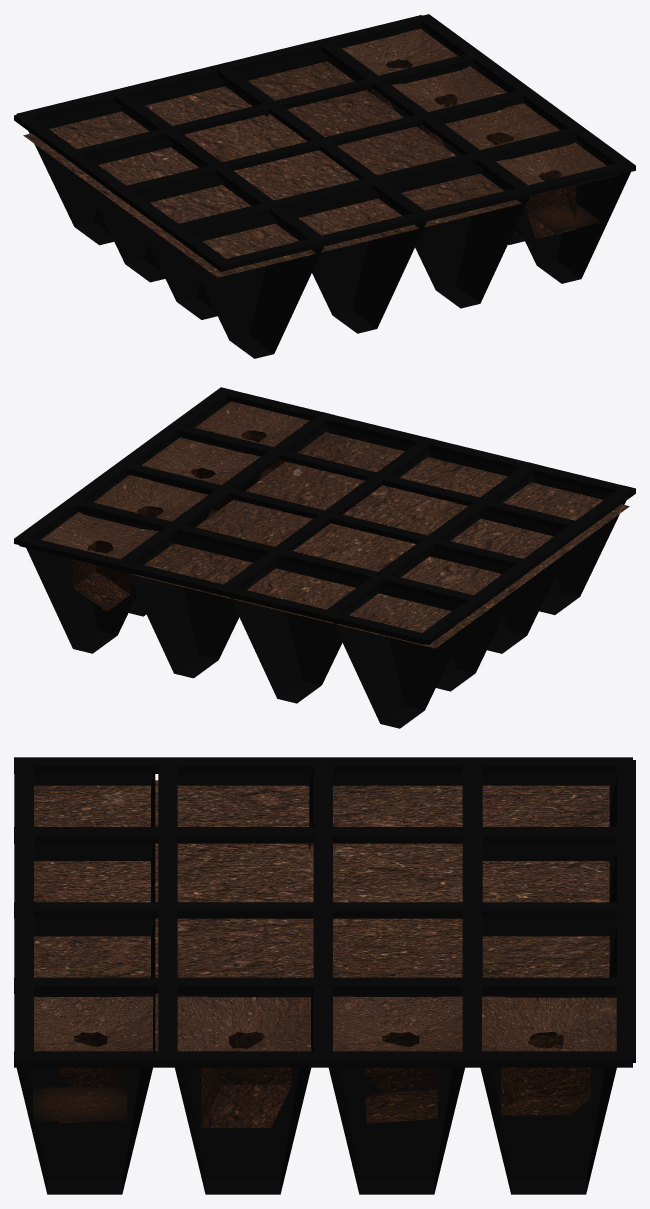
The model's file is pot.glb.
3 views of the same model, one above another, from view 1: azimuth 30°, elevation 25°; view 2: azimuth 150°, elevation 25°; view 3: azimuth 270°, elevation 25° (orthographic). The views are drawn at different scales.
Parts seen in each view (by area): view 1: node_id5, node_id11, node_id32, node_id20, node_id26, node_id8, node_id14, node_id17; view 2: node_id5, node_id11, node_id20, node_id32, node_id26, node_id8, node_id35; view 3: node_id5, node_id11, node_id32, node_id20, node_id26, node_id8, node_id23, node_id35, node_id29, node_id14, node_id17.
Boxes of the visible parts, x1=… form: node_id5: x1=14, y1=14, x2=635, y2=358; node_id11: x1=23, y1=61, x2=521, y2=277; node_id32: x1=341, y1=28, x2=457, y2=75; node_id20: x1=445, y1=103, x2=560, y2=149; node_id26: x1=392, y1=66, x2=507, y2=111; node_id8: x1=496, y1=142, x2=618, y2=195; node_id14: x1=524, y1=201, x2=601, y2=233; node_id17: x1=526, y1=170, x2=576, y2=238; node_id5: x1=14, y1=387, x2=635, y2=728; node_id11: x1=131, y1=432, x2=629, y2=648; node_id20: x1=141, y1=437, x2=260, y2=485; node_id32: x1=41, y1=512, x2=158, y2=559; node_id26: x1=93, y1=475, x2=207, y2=521; node_id8: x1=195, y1=401, x2=309, y2=446; node_id35: x1=72, y1=540, x2=130, y2=611; node_id5: x1=14, y1=757, x2=635, y2=1194; node_id11: x1=34, y1=780, x2=609, y2=995; node_id32: x1=482, y1=996, x2=616, y2=1051; node_id20: x1=177, y1=996, x2=311, y2=1051; node_id26: x1=333, y1=996, x2=462, y2=1051; node_id8: x1=34, y1=996, x2=158, y2=1051; node_id23: x1=201, y1=1032, x2=291, y2=1127; node_id35: x1=501, y1=1035, x2=590, y2=1115; node_id29: x1=365, y1=1032, x2=438, y2=1123; node_id14: x1=33, y1=1087, x2=127, y2=1121; node_id17: x1=59, y1=1032, x2=123, y2=1123.
Bounding box in the file's own units: 0.2501 × 0.064 × 0.2171.
11 materials, 11 textured.
